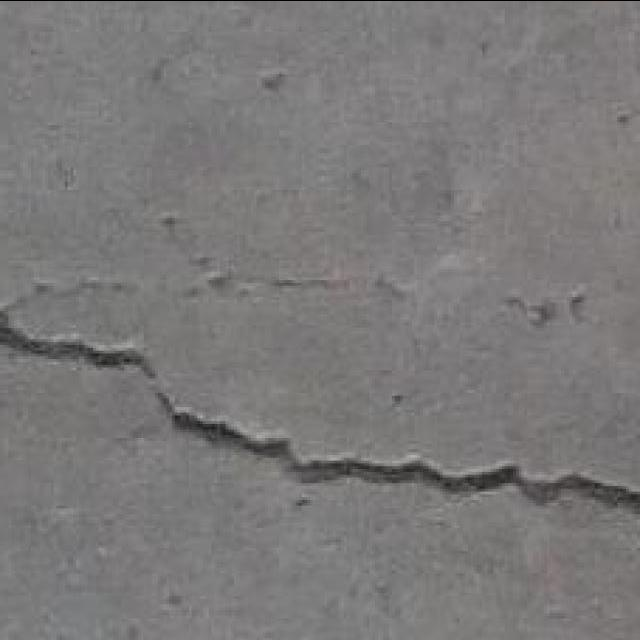Crack: (0, 304, 638, 515), (4, 258, 618, 338), (3, 305, 157, 369), (153, 389, 300, 456), (188, 266, 380, 296), (23, 272, 143, 304)
